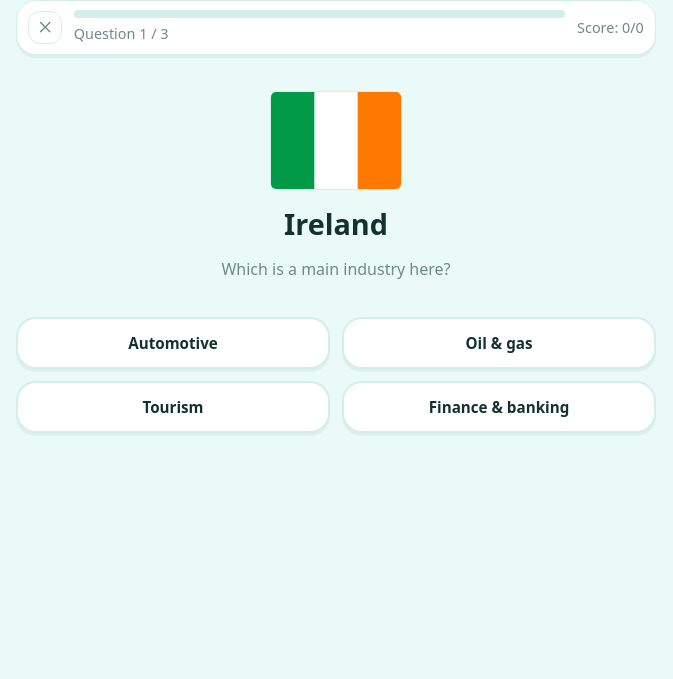
Test case: Play route › country-to-industry: a wrong answer reveals the "why" fun fact for the correct industry
Note: Pick a distractor (any option that is not the correct one) → graded wrong.
Click the button "Automotive" at (173, 343), box x1=16 y1=317 x2=330 y2=369
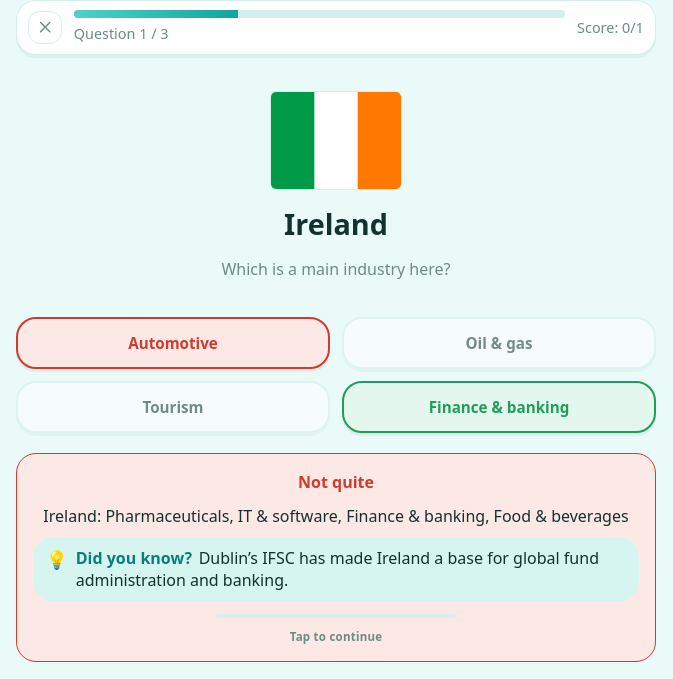
Now the element with class "did-you-know" is shown, box x1=33 y1=537 x2=639 y2=601
Now the element with class "did-you-know" shows "Did you know?", box x1=76 y1=547 x2=192 y2=569
